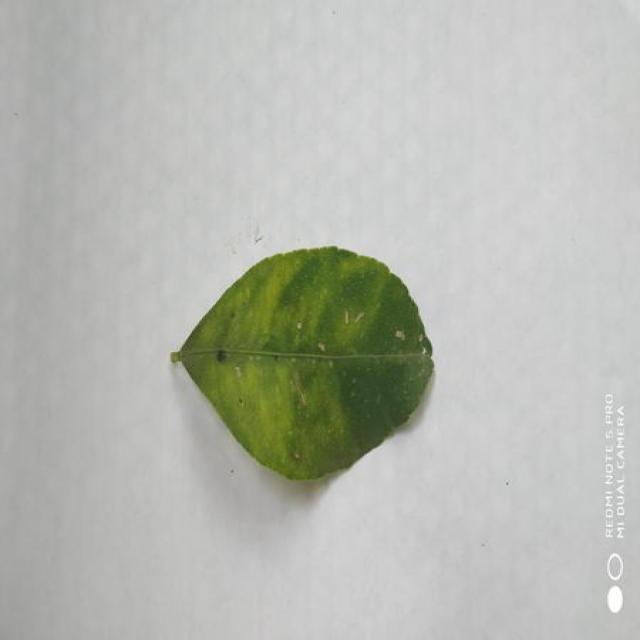CVC: (172, 246, 433, 479)
